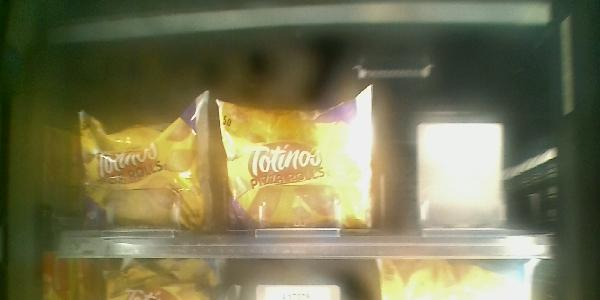icecream: (215, 85, 385, 235), (74, 90, 215, 232)
